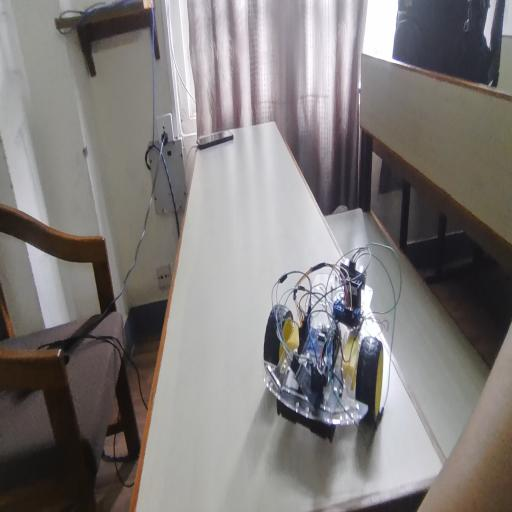car: (277, 229, 407, 483)
